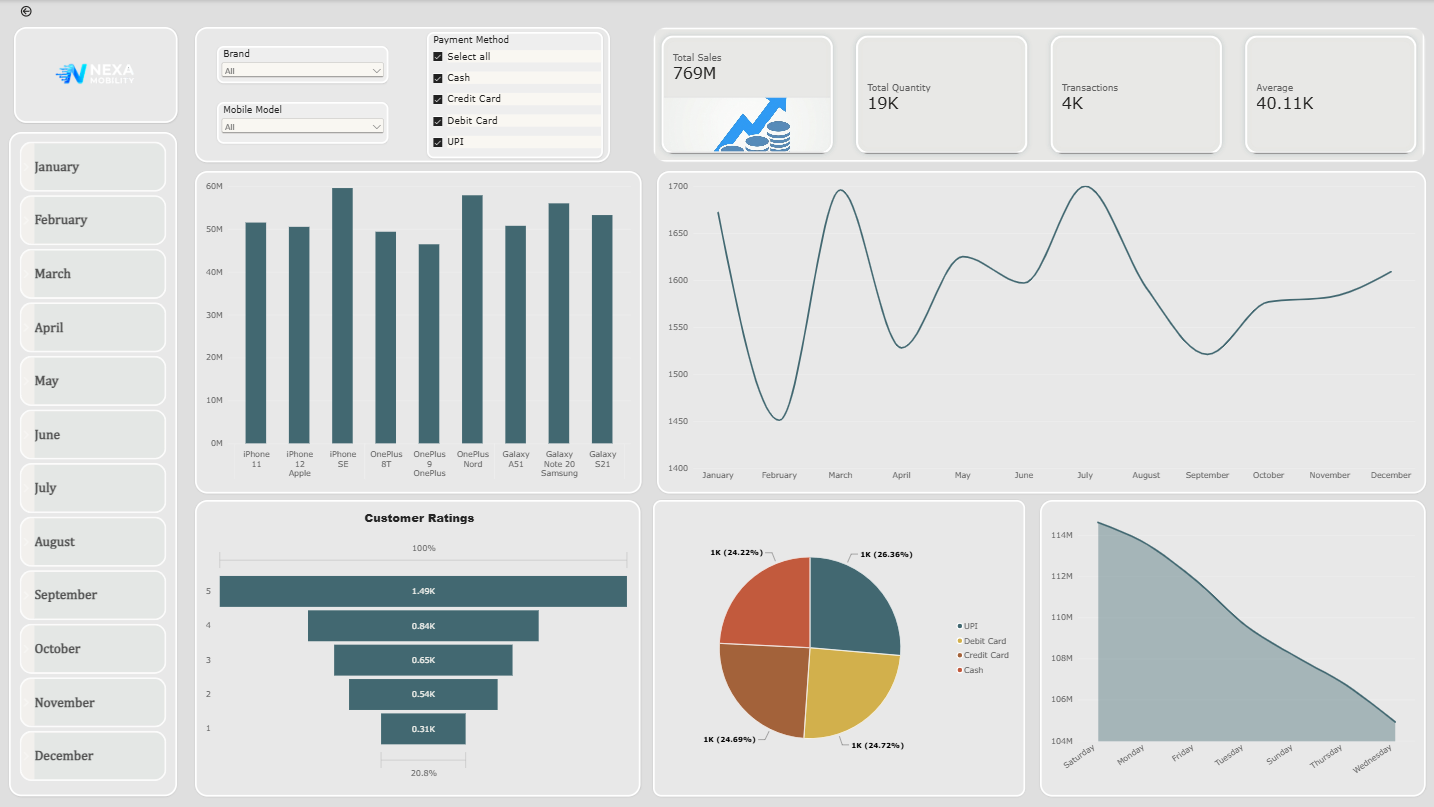

Layout of this report page (visuals, bound fields, positions):
{"tool":"powerbi","page":{"name":"Page 1","canvas":[2560,1440],"ordinal":0},"visuals":[{"type":"image","box":[28,48,290,170],"z":0},{"type":"listSlicer","fields":{"Values":["Sheet1.Date.Variation.Date Hierarchy.Month","Sheet1.Date.Variation.Date Hierarchy.Day"]},"box":[20,234,298,1178],"z":1000},{"type":"cardVisual","fields":{"Data":["Sheet1.Total Sales","Sheet1.Total Quantity","Sheet1.Transactions","Sheet1.Average"]},"box":[1162,48,1370,240],"z":2000},{"type":"lineChart","fields":{"Category":["Sheet1.Date.Variation.Date Hierarchy.Month","Sheet1.Date.Variation.Date Hierarchy.Day"],"Y":["Sum(Sheet1.Units Sold)"]},"box":[1168,304,1364,572],"z":3000},{"type":"clusteredColumnChart","fields":{"Category":["Sheet1.Brand","Sheet1.Mobile Model"],"Y":["Sheet1.Total Sales"]},"box":[350,304,792,572],"z":4000},{"type":"pieChart","fields":{"Category":["Sheet1.Payment Method"],"Y":["Sheet1.Transactions"]},"box":[1162,886,660,526],"z":5000},{"type":"funnel","title":"Customer Ratings","fields":{"Category":["Sheet1.Customer Ratings"],"Y":["CountNonNull(Sheet1.Customer Ratings)"]},"box":[350,886,790,526],"z":6000},{"type":"textbox","box":[350,48,736,240],"z":6500},{"type":"areaChart","fields":{"Category":["Sheet1.Day Name"],"Y":["Sheet1.Total Sales"]},"box":[1848,886,684,526],"z":7000},{"type":"slicer","fields":{"Values":["Sheet1.Brand"]},"box":[388,82,304,66],"z":8000},{"type":"actionButton","box":[0,0,100,40],"z":9000},{"type":"slicer","fields":{"Values":["Sheet1.Mobile Model"]},"box":[388,180,304,74],"z":10000},{"type":"slicer","fields":{"Values":["Sheet1.Payment Method"]},"box":[760,56,312,224],"z":12000}]}

Visuals, with their boxes in screenshot pixels (x1, y1, x2, y2), scaled from the page's 2560x1440 canvas onto the 1434x807 screenshot:
image: (x1=16, y1=27, x2=178, y2=122)
listSlicer - Sheet1.Date.Variation.Date Hierarchy.Month x Sheet1.Date.Variation.Date Hierarchy.Day: (x1=11, y1=131, x2=178, y2=791)
cardVisual - Sheet1.Total Sales x Sheet1.Total Quantity: (x1=651, y1=27, x2=1418, y2=161)
lineChart - Sheet1.Date.Variation.Date Hierarchy.Month x Sheet1.Date.Variation.Date Hierarchy.Day: (x1=654, y1=170, x2=1418, y2=491)
clusteredColumnChart - Sheet1.Brand x Sheet1.Mobile Model: (x1=196, y1=170, x2=640, y2=491)
pieChart - Sheet1.Payment Method x Sheet1.Transactions: (x1=651, y1=497, x2=1021, y2=791)
"Customer Ratings" funnel: (x1=196, y1=497, x2=639, y2=791)
textbox: (x1=196, y1=27, x2=608, y2=161)
areaChart - Sheet1.Day Name x Sheet1.Total Sales: (x1=1035, y1=497, x2=1418, y2=791)
slicer - Sheet1.Brand: (x1=217, y1=46, x2=388, y2=83)
actionButton: (x1=0, y1=0, x2=56, y2=22)
slicer - Sheet1.Mobile Model: (x1=217, y1=101, x2=388, y2=142)
slicer - Sheet1.Payment Method: (x1=426, y1=31, x2=600, y2=157)
